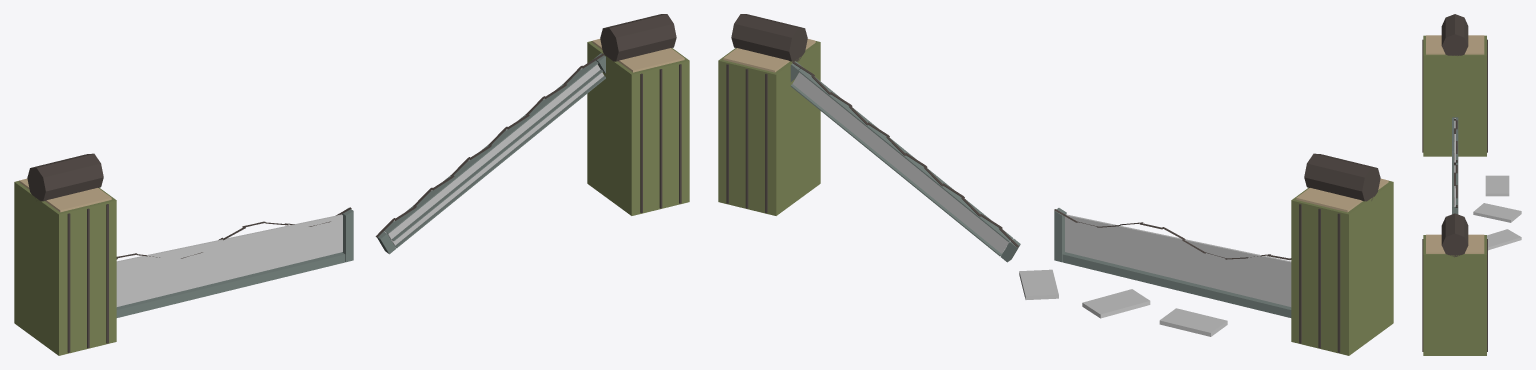
Rendered from SM_PuertaVehiculos_v3_MallaEspino_e2_MuyDanado_LOD0.fbx.
3 views of the same model, side by side, from view 1: azimuth 30°, elevation 25°; view 2: azimuth 150°, elevation 25°; view 3: azimuth 270°, elevation 25° (orthographic). The views are drawn at different scales.
Parts seen in each view (by area): view 1: SM_bloques.puerta_estados_v14_LOD0, Hoja_O, Hoja_E; view 2: SM_bloques.puerta_estados_v14_LOD0, Hoja_O, Hoja_E; view 3: SM_bloques.puerta_estados_v14_LOD0, Hoja_O.
Boxes of the visible parts, bbox=[...] form: SM_bloques.puerta_estados_v14_LOD0: bbox=[14, 14, 689, 355]; Hoja_O: bbox=[116, 207, 353, 317]; Hoja_E: bbox=[375, 53, 605, 254]; SM_bloques.puerta_estados_v14_LOD0: bbox=[718, 14, 1393, 355]; Hoja_O: bbox=[1054, 208, 1291, 317]; Hoja_E: bbox=[790, 61, 1020, 262]; SM_bloques.puerta_estados_v14_LOD0: bbox=[1422, 14, 1521, 355]; Hoja_O: bbox=[1452, 117, 1458, 214].
Size of the model in its own units: 9.8 by 2.61 by 1.88.
